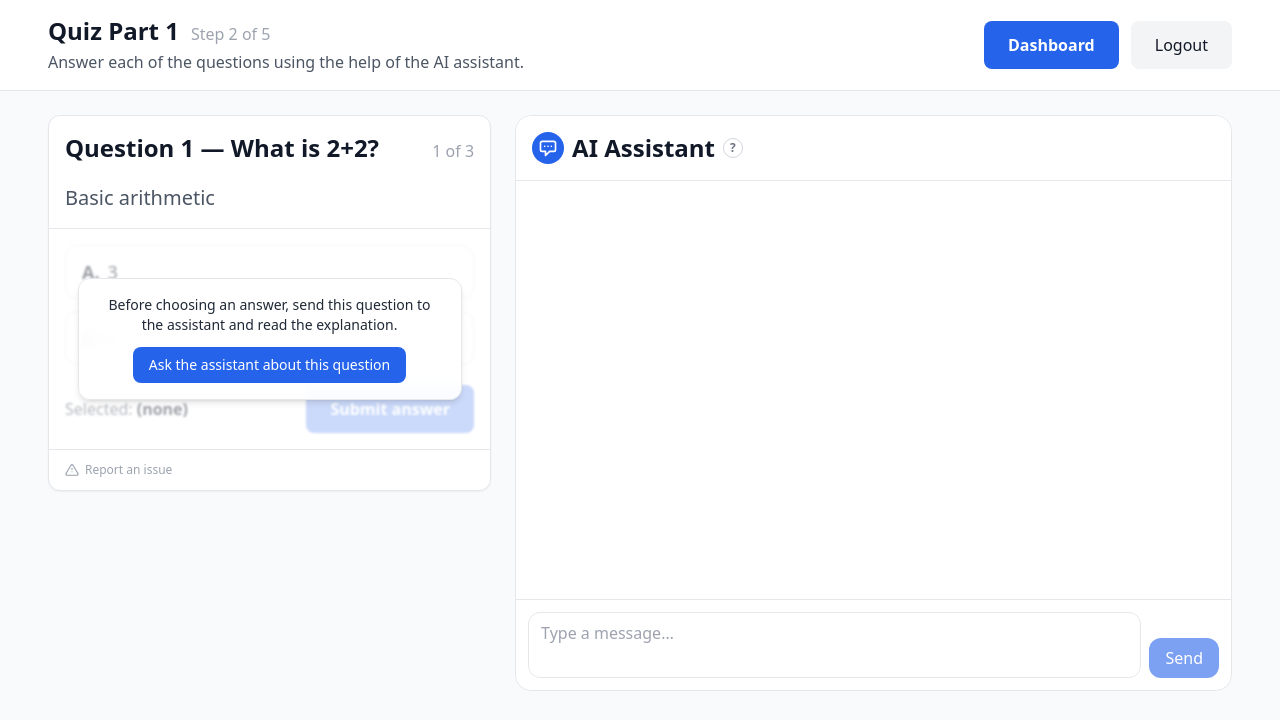
Test: QuizPage ([quiz_id]) › opens the report form, submits it, and shows a success message
This screenshot has width=1280, height=720.
Check: the heading "Question 1 — What is 2+2?" is shown, box [65, 132, 379, 164]
Step 1. Click the button "Report an issue" → point(129, 470), box [49, 450, 490, 490]
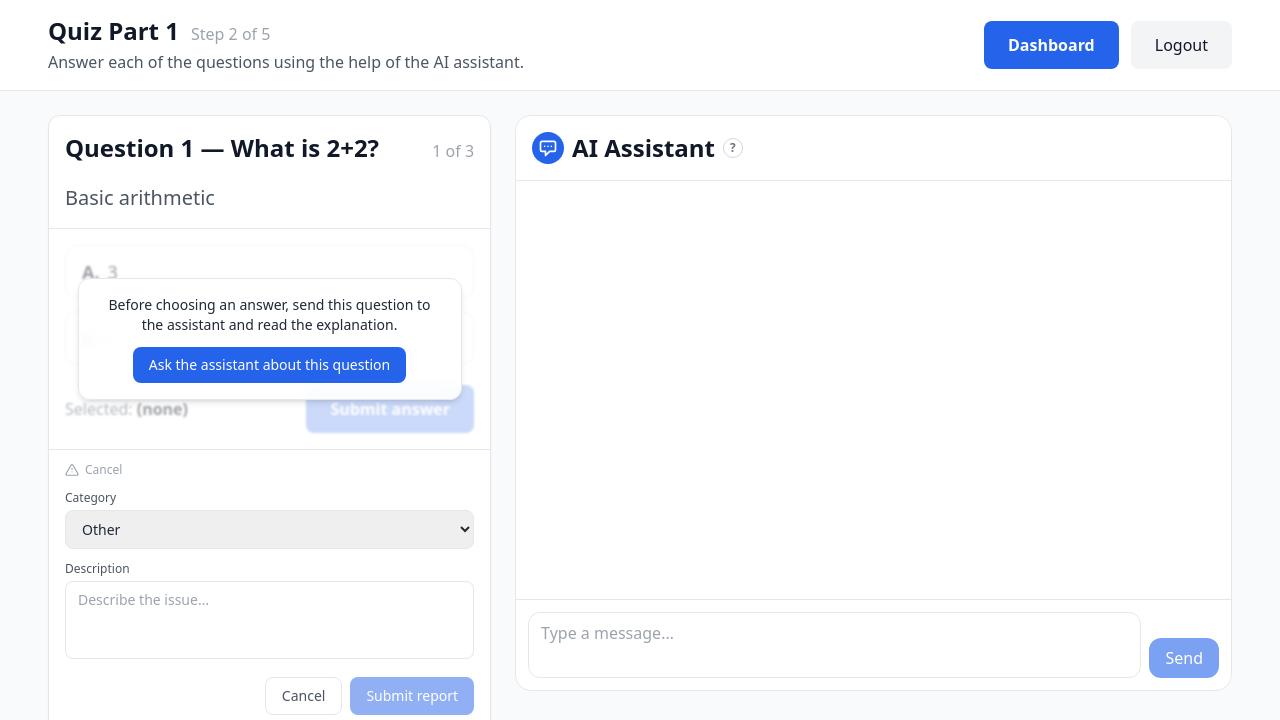
Step 2. Select "Unclear question" in the dropdown showing "Other" → point(270, 530), box [65, 510, 474, 549]
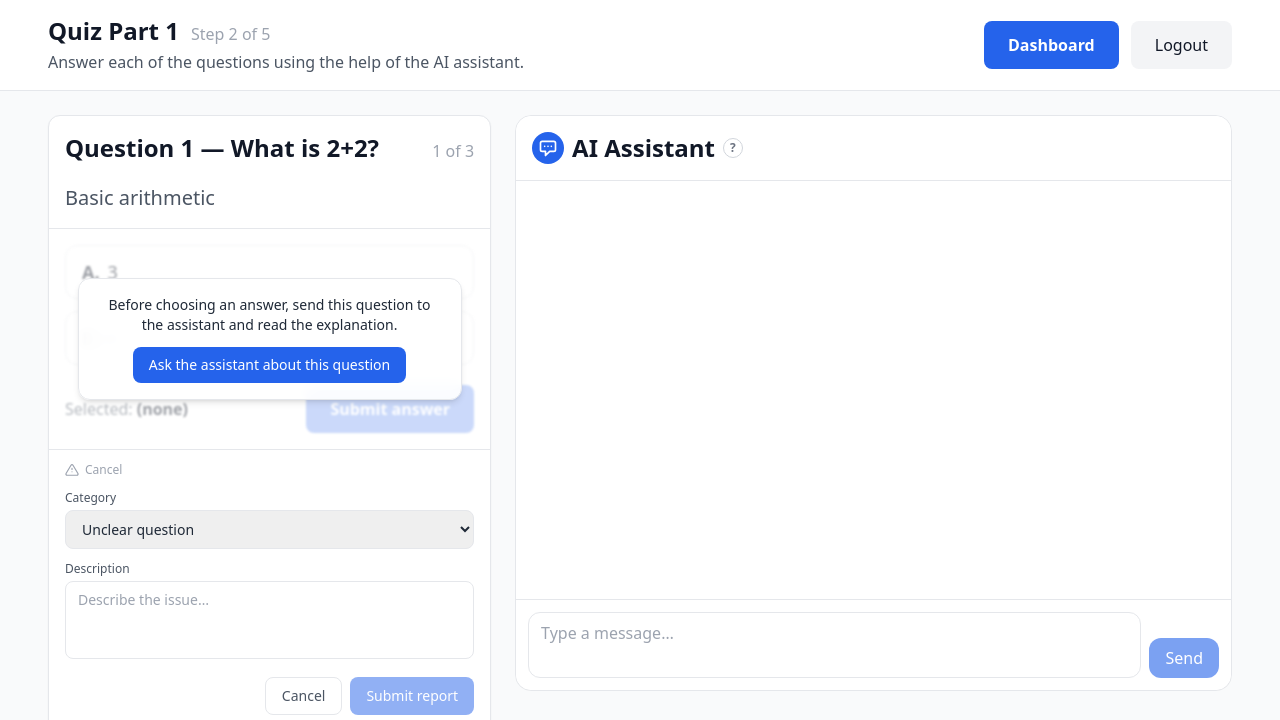
Step 3. Type "This question is confusing." into the text box with placeholder "Describe the issue…" → point(270, 620), box [65, 581, 474, 659]
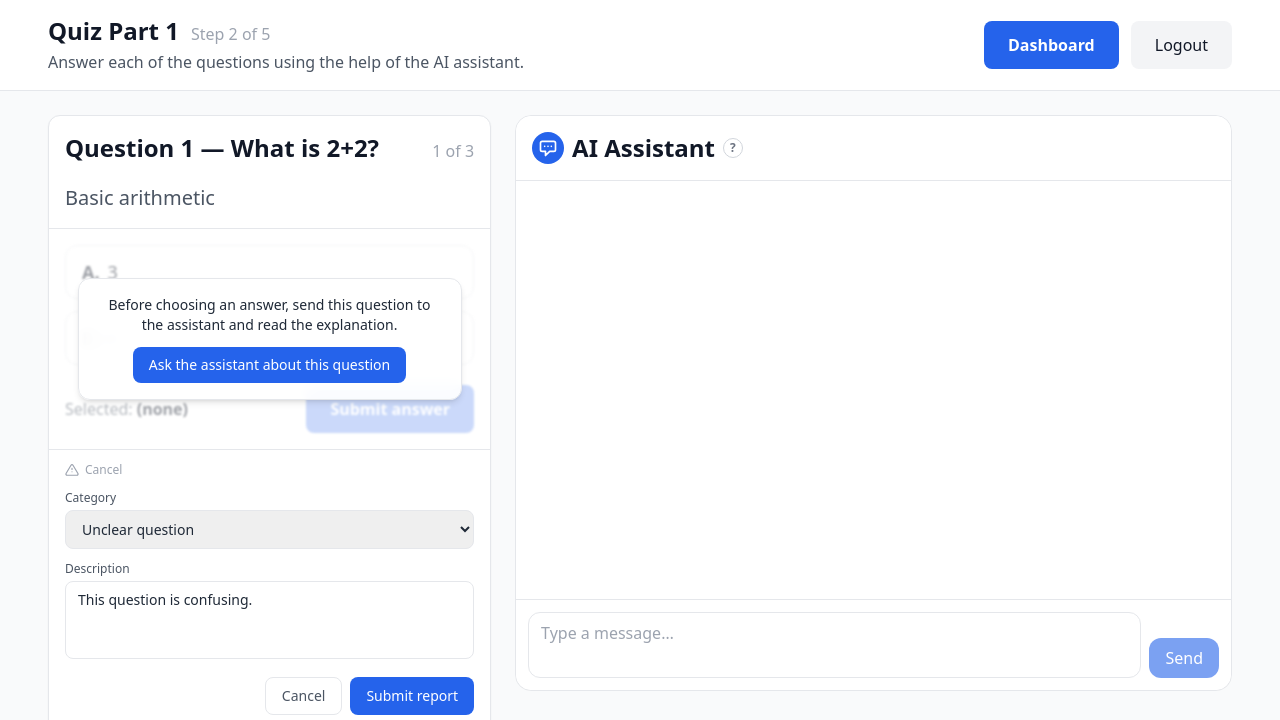
Step 4. Click the button "Submit report" → point(412, 696), box [350, 677, 474, 715]
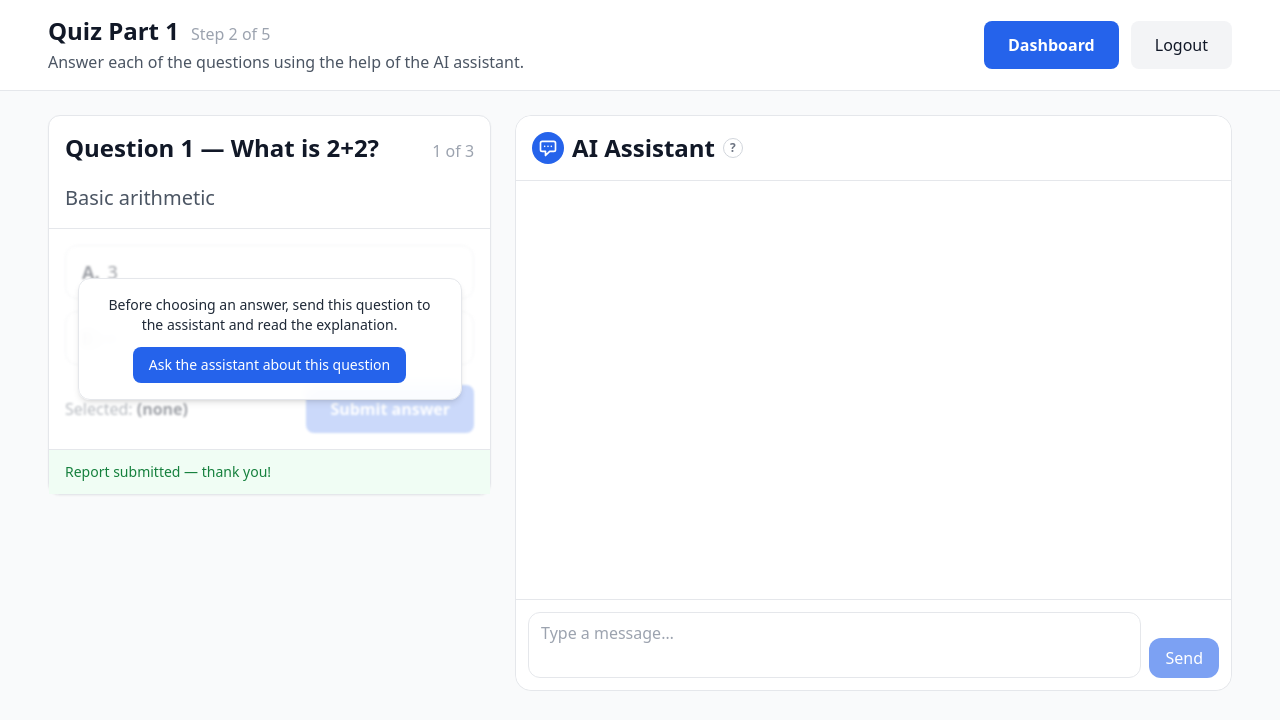
Check: the field with placeholder "Describe the issue…" is not shown
Check: the text "Report submitted — thank you!" is shown, box [49, 450, 490, 494]
